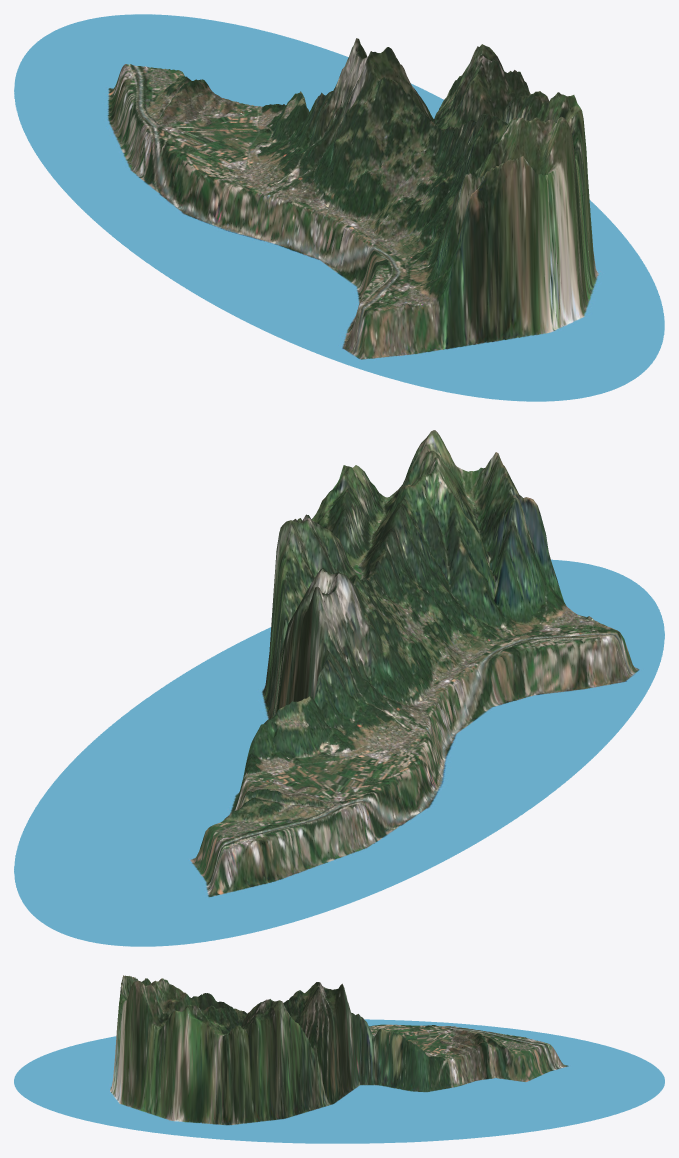
Rendered from LIE-previa-terrain.glb.
3 views of the same model, one above another, from view 1: azimuth 30°, elevation 25°; view 2: azimuth 150°, elevation 25°; view 3: azimuth 270°, elevation 25° (orthographic). The views are drawn at different scales.
Parts seen in each view (by area): view 1: Liechtenstein; view 2: Liechtenstein; view 3: Liechtenstein.
Part boxes in pixels (box(x1,y1,x2,y2)): Liechtenstein: box(14, 14, 664, 401); Liechtenstein: box(14, 430, 664, 946); Liechtenstein: box(14, 975, 664, 1143).
Size of the model in its own units: 1.13 by 0.5108 by 2.49.
1 material, 1 textured.
